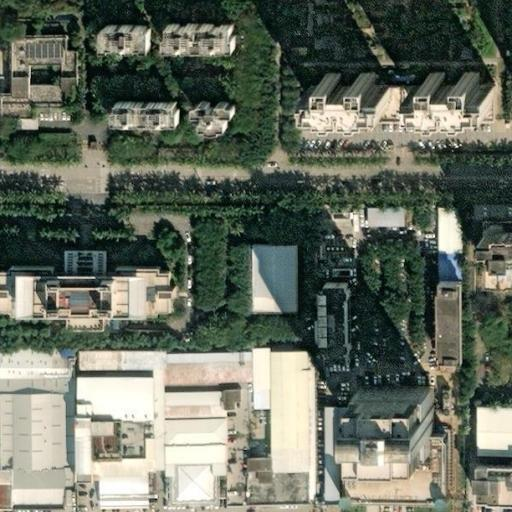building: (76, 376, 165, 508), (333, 441, 512, 504), (297, 82, 485, 120), (348, 386, 423, 453), (12, 269, 146, 306), (267, 353, 306, 476), (163, 387, 225, 464), (163, 348, 248, 388), (246, 245, 291, 319), (297, 71, 377, 110), (404, 73, 484, 112), (315, 414, 348, 504), (165, 463, 225, 510), (243, 462, 306, 503), (76, 350, 163, 377), (8, 467, 58, 511), (474, 402, 512, 459), (429, 283, 455, 363), (310, 281, 336, 357), (156, 19, 228, 46), (433, 208, 456, 283), (107, 100, 174, 121), (247, 348, 268, 411), (89, 25, 136, 49), (189, 99, 231, 125), (41, 239, 84, 261), (362, 210, 399, 229), (348, 209, 363, 234), (0, 467, 8, 512), (482, 247, 495, 267), (323, 268, 343, 275), (267, 346, 284, 354)
